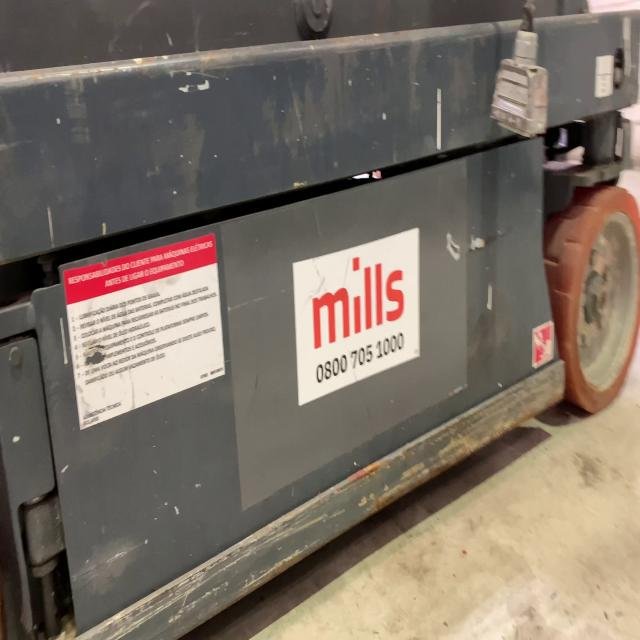Adesivos: (290, 221, 423, 413)
